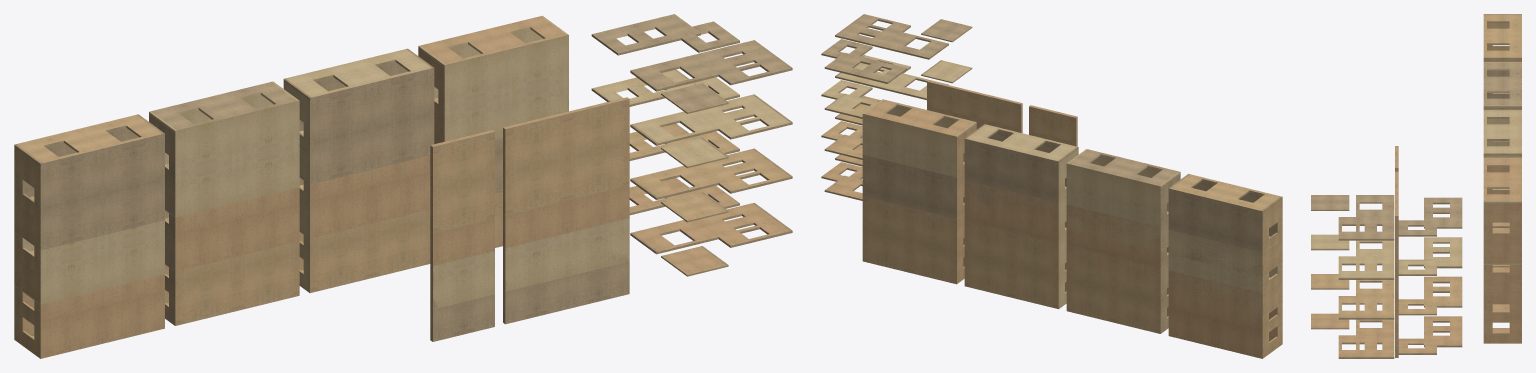
Rendered from NEW_Buildings_1B.fbx.
3 views of the same model, side by side, from view 1: azimuth 30°, elevation 25°; view 2: azimuth 150°, elevation 25°; view 3: azimuth 270°, elevation 25° (orthographic). The views are drawn at different scales.
Visible parts, largest first — view 1: Cube_016, Cube_013, Cube_010, Cube_006, Cube_025, Cube_014, Cube_015, Cube_008, Cube_011, Cube_012, Cube_009, Cube_024 (+24 smaller); view 2: Cube_016, Cube_013, Cube_014, Cube_010, Cube_002, Cube_011, Cube_008, Cube_006, Cube_015, Cube_009, Cube_012, Cube_001 (+16 smaller); view 3: Cube_006, Cube_002, Cube_001, Cube_010, Cube_013, Cube_016, Cube_039, Cube_029, Cube_000, Cube_038, Cube_028, Cube_003 (+16 smaller).
Part boxes in pixels (left/top/right/bottom): Cube_016: left=14, top=114, right=164, bottom=250; Cube_013: left=149, top=81, right=299, bottom=217; Cube_010: left=283, top=48, right=434, bottom=184; Cube_006: left=418, top=15, right=568, bottom=143; Cube_025: left=503, top=97, right=629, bottom=215; Cube_014: left=14, top=250, right=164, bottom=358; Cube_015: left=14, top=196, right=164, bottom=304; Cube_008: left=299, top=185, right=430, bottom=292; Cube_011: left=165, top=217, right=299, bottom=325; Cube_012: left=165, top=163, right=299, bottom=271; Cube_009: left=299, top=130, right=430, bottom=238; Cube_024: left=430, top=130, right=494, bottom=233; Cube_016: left=1168, top=174, right=1282, bottom=276; Cube_013: left=1066, top=149, right=1180, bottom=251; Cube_014: left=1168, top=270, right=1282, bottom=358; Cube_010: left=964, top=124, right=1078, bottom=226; Cube_002: left=862, top=196, right=964, bottom=284; Cube_011: left=1066, top=245, right=1168, bottom=333; Cube_008: left=964, top=221, right=1066, bottom=309; Cube_006: left=862, top=99, right=976, bottom=197; Cube_015: left=1168, top=229, right=1282, bottom=317; Cube_009: left=964, top=180, right=1066, bottom=267; Cube_012: left=1066, top=204, right=1168, bottom=292; Cube_001: left=862, top=155, right=964, bottom=238; Cube_006: left=1483, top=157, right=1521, bottom=264; Cube_002: left=1483, top=265, right=1521, bottom=343; Cube_001: left=1483, top=222, right=1521, bottom=304; Cube_010: left=1483, top=109, right=1521, bottom=188; Cube_013: left=1483, top=62, right=1521, bottom=141; Cube_016: left=1483, top=14, right=1521, bottom=93; Cube_039: left=1356, top=195, right=1394, bottom=240; Cube_029: left=1356, top=280, right=1394, bottom=319; Cube_000: left=1356, top=319, right=1394, bottom=358; Cube_038: left=1424, top=197, right=1462, bottom=228; Cube_028: left=1424, top=276, right=1462, bottom=307; Cube_003: left=1424, top=316, right=1462, bottom=347.
Bounding box in the file's own units: 6300 × 2066 × 2421.
